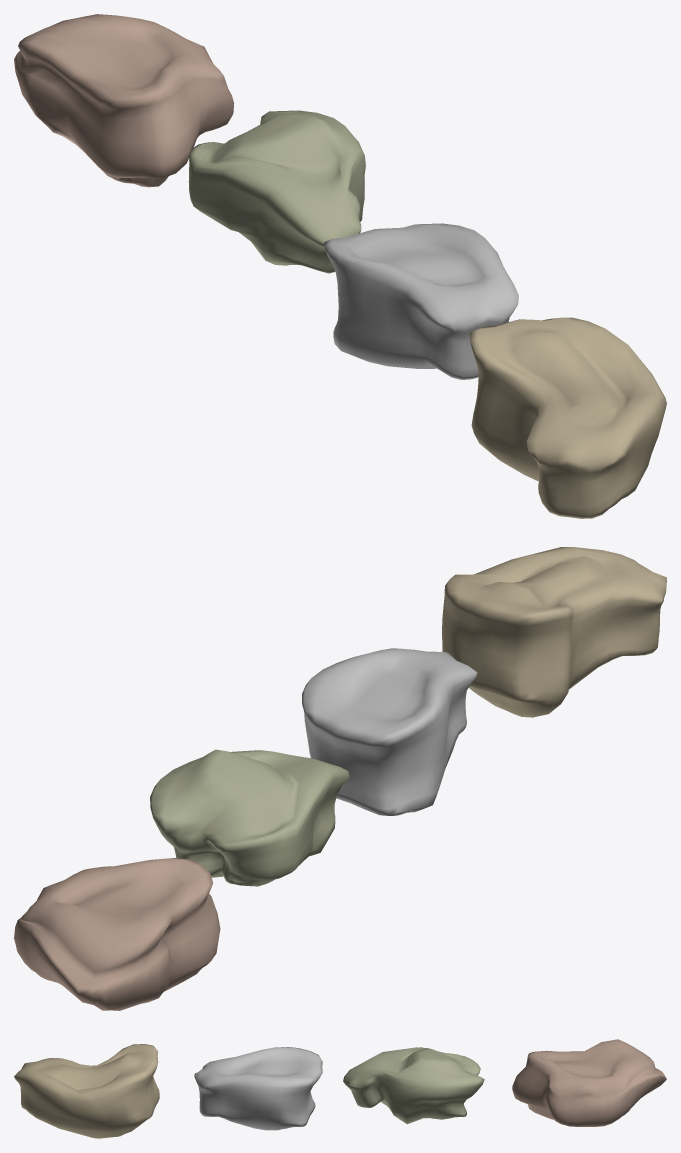
The model's file is bone_dices.fbx.
3 renders of one model, top to bottom at view 1: azimuth 30°, elevation 25°; view 2: azimuth 150°, elevation 25°; view 3: azimuth 270°, elevation 25°, orthographic. The views are drawn at different scales.
Parts seen in each view (by area): view 1: pCube4, pCube3, pCube1, pCube2; view 2: pCube4, pCube3, pCube1, pCube2; view 3: pCube4, pCube3, pCube1, pCube2.
Part boxes in pixels (box(x1,y1,x2,y2)): pCube4: box(469, 317, 666, 518); pCube3: box(14, 14, 233, 187); pCube1: box(324, 223, 518, 379); pCube2: box(188, 110, 365, 273); pCube4: box(442, 547, 666, 717); pCube3: box(14, 858, 220, 1010); pCube1: box(302, 648, 477, 815); pCube2: box(150, 749, 349, 886); pCube4: box(14, 1044, 159, 1138); pCube3: box(512, 1039, 666, 1126); pCube1: box(194, 1047, 322, 1130); pCube2: box(343, 1047, 484, 1124).
Bounding box in the file's own units: 1.32 × 1.14 × 7.9.
